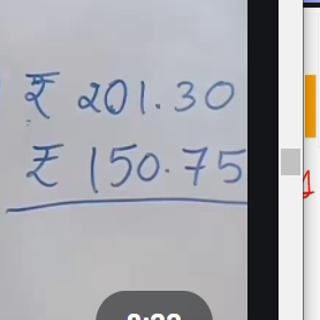.: (154, 98, 164, 114), (163, 164, 172, 175)
0: (102, 77, 127, 114), (205, 81, 235, 110), (136, 152, 161, 184)
1: (78, 81, 102, 112), (88, 145, 103, 194), (136, 79, 149, 114)
3: (175, 81, 195, 114)
5: (110, 143, 138, 189), (217, 147, 248, 186)
7: (179, 143, 210, 188)
